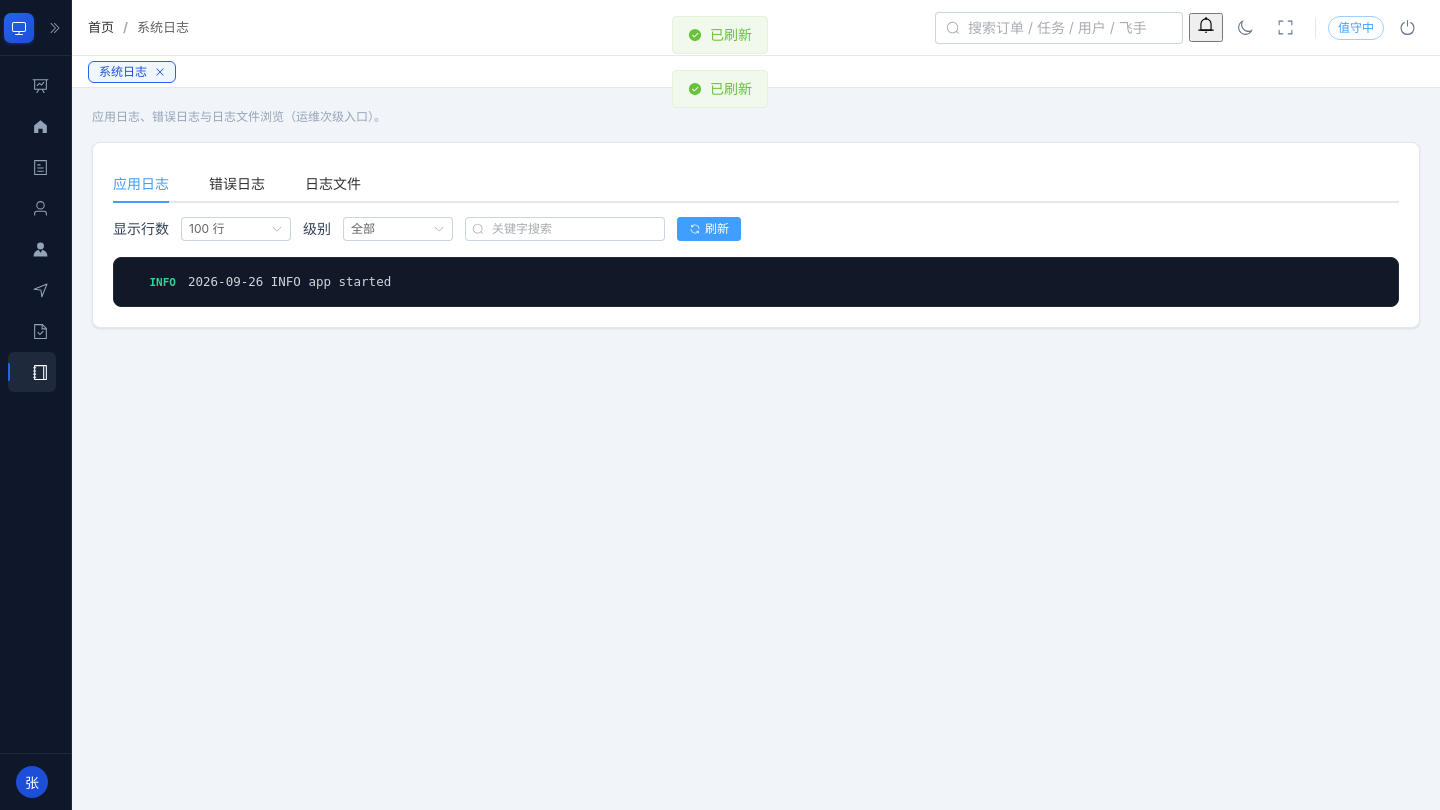
Test case: 系统日志页（TASK-FRONTEND-005，自 AdminView 迁移） › 日志文件页签：目录列表渲染、下钻后按相对路径重查
Click the tab "日志文件" at [333, 183], box 305,174 -> 361,192
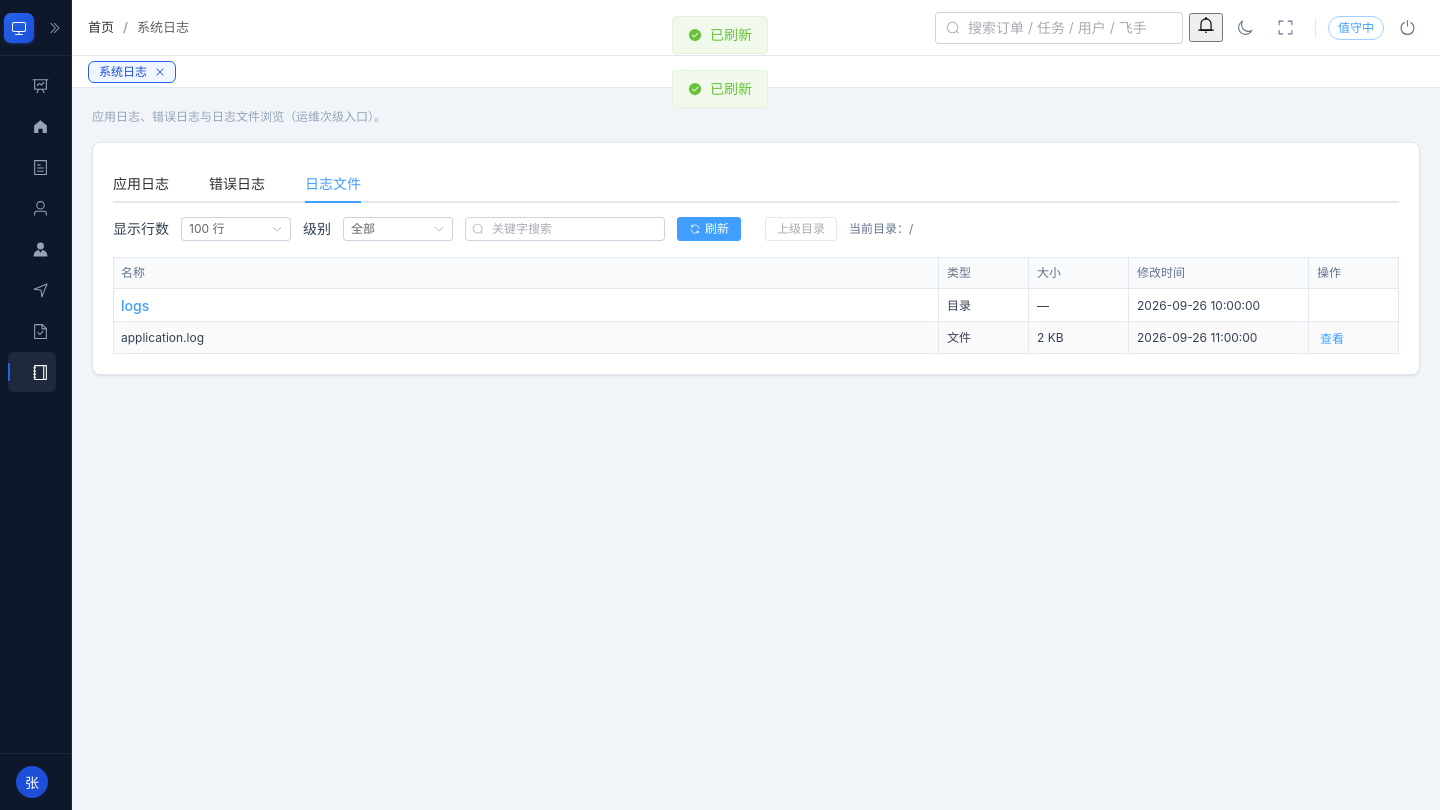
Result: the text "application.log" is shown at 121,330 -> 204,345
Result: the text "2 KB" is shown at 1037,330 -> 1064,345
Result: the text "目录" is shown at 777,223 -> 825,235
Click the link "logs" at [135, 306], box 121,294 -> 149,317
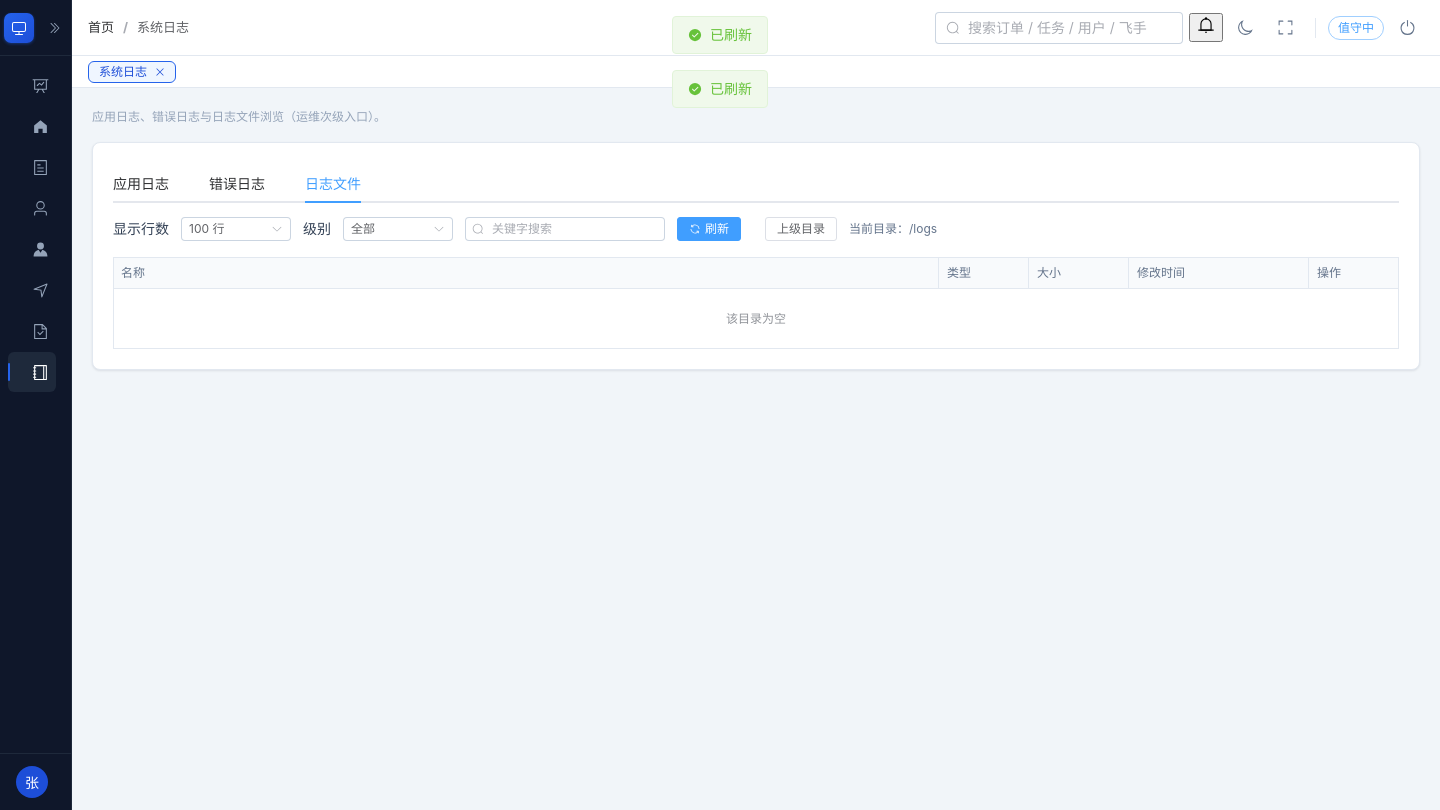
Result: the text "当前目录：/logs" is shown at 849,221 -> 937,237
